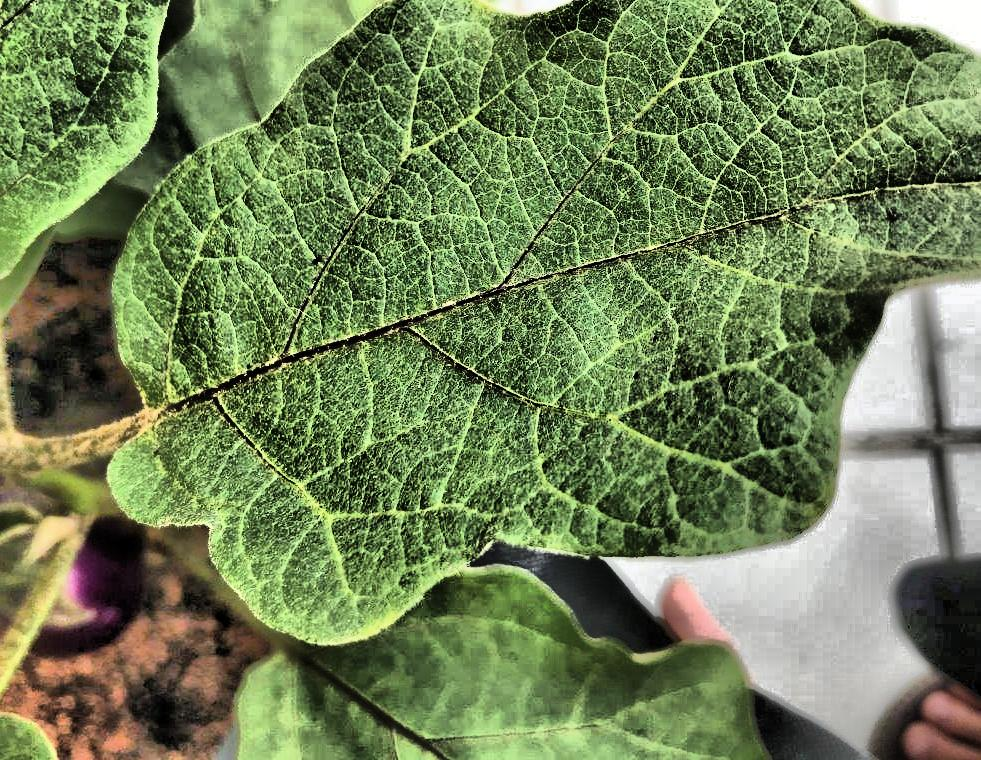HEALTHY: (0, 67, 691, 760)
